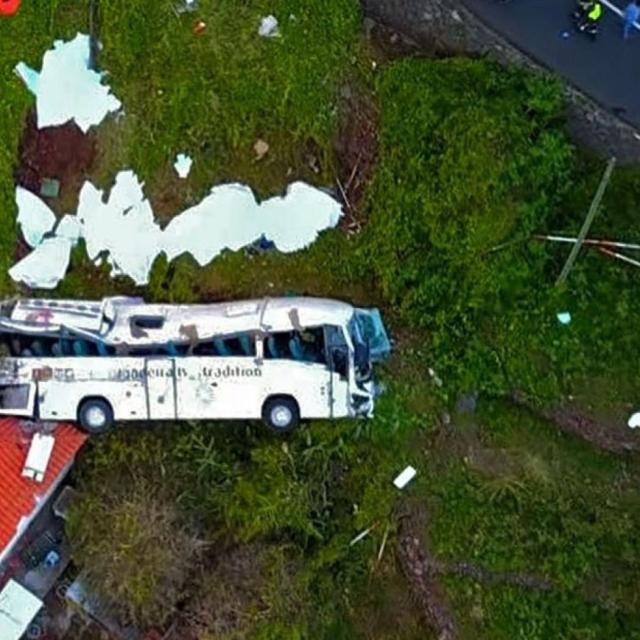traffic_incident: (0, 280, 390, 437)
